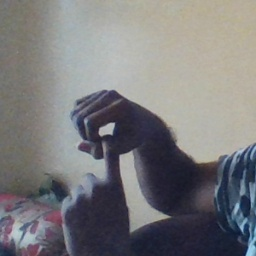Q: (51, 86, 160, 244)
